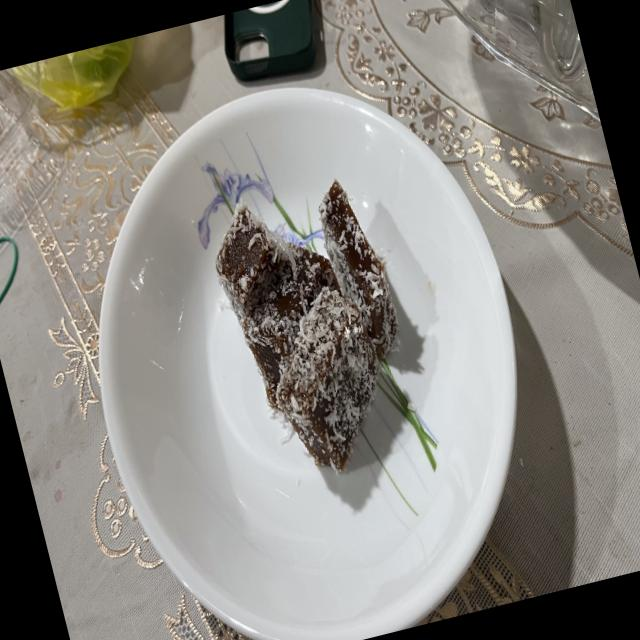kaswi: (276, 286, 378, 471), (241, 244, 341, 407), (319, 179, 397, 358), (215, 203, 296, 322)
